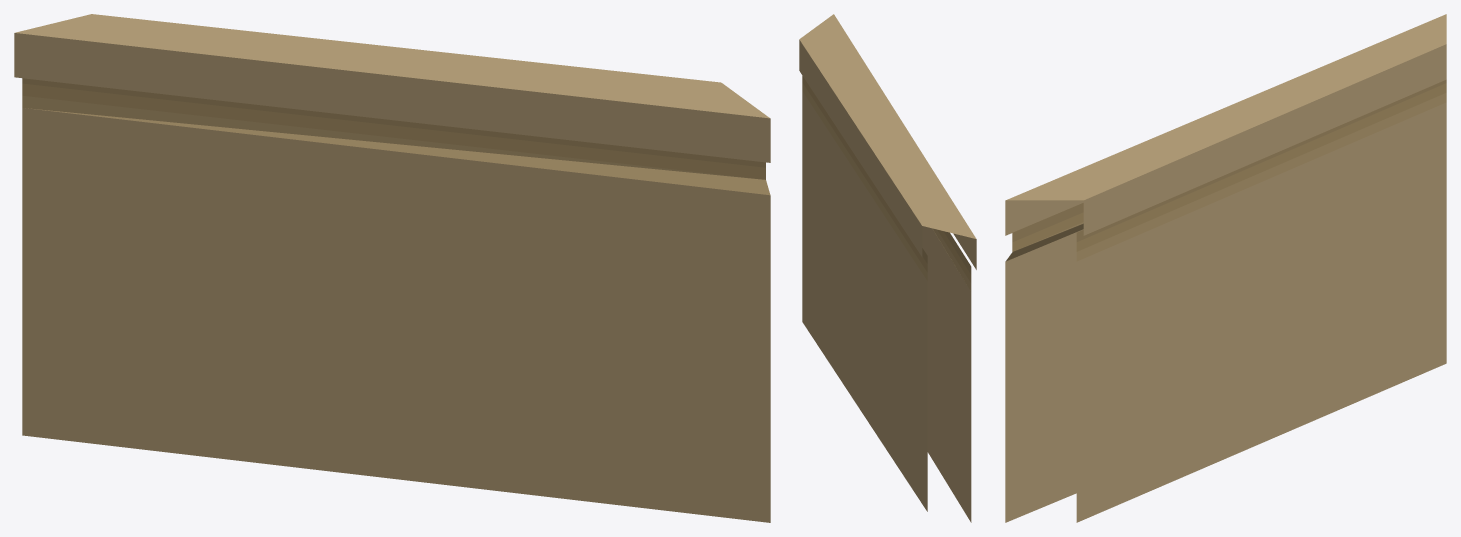
Rendered from obj_wall_12_2.obj.
3 views of the same model, side by side, from view 1: azimuth 30°, elevation 25°; view 2: azimuth 150°, elevation 25°; view 3: azimuth 270°, elevation 25° (orthographic). The views are drawn at different scales.
Size of the model in its own units: 0.9688 by 0.7812 by 0.9688.
